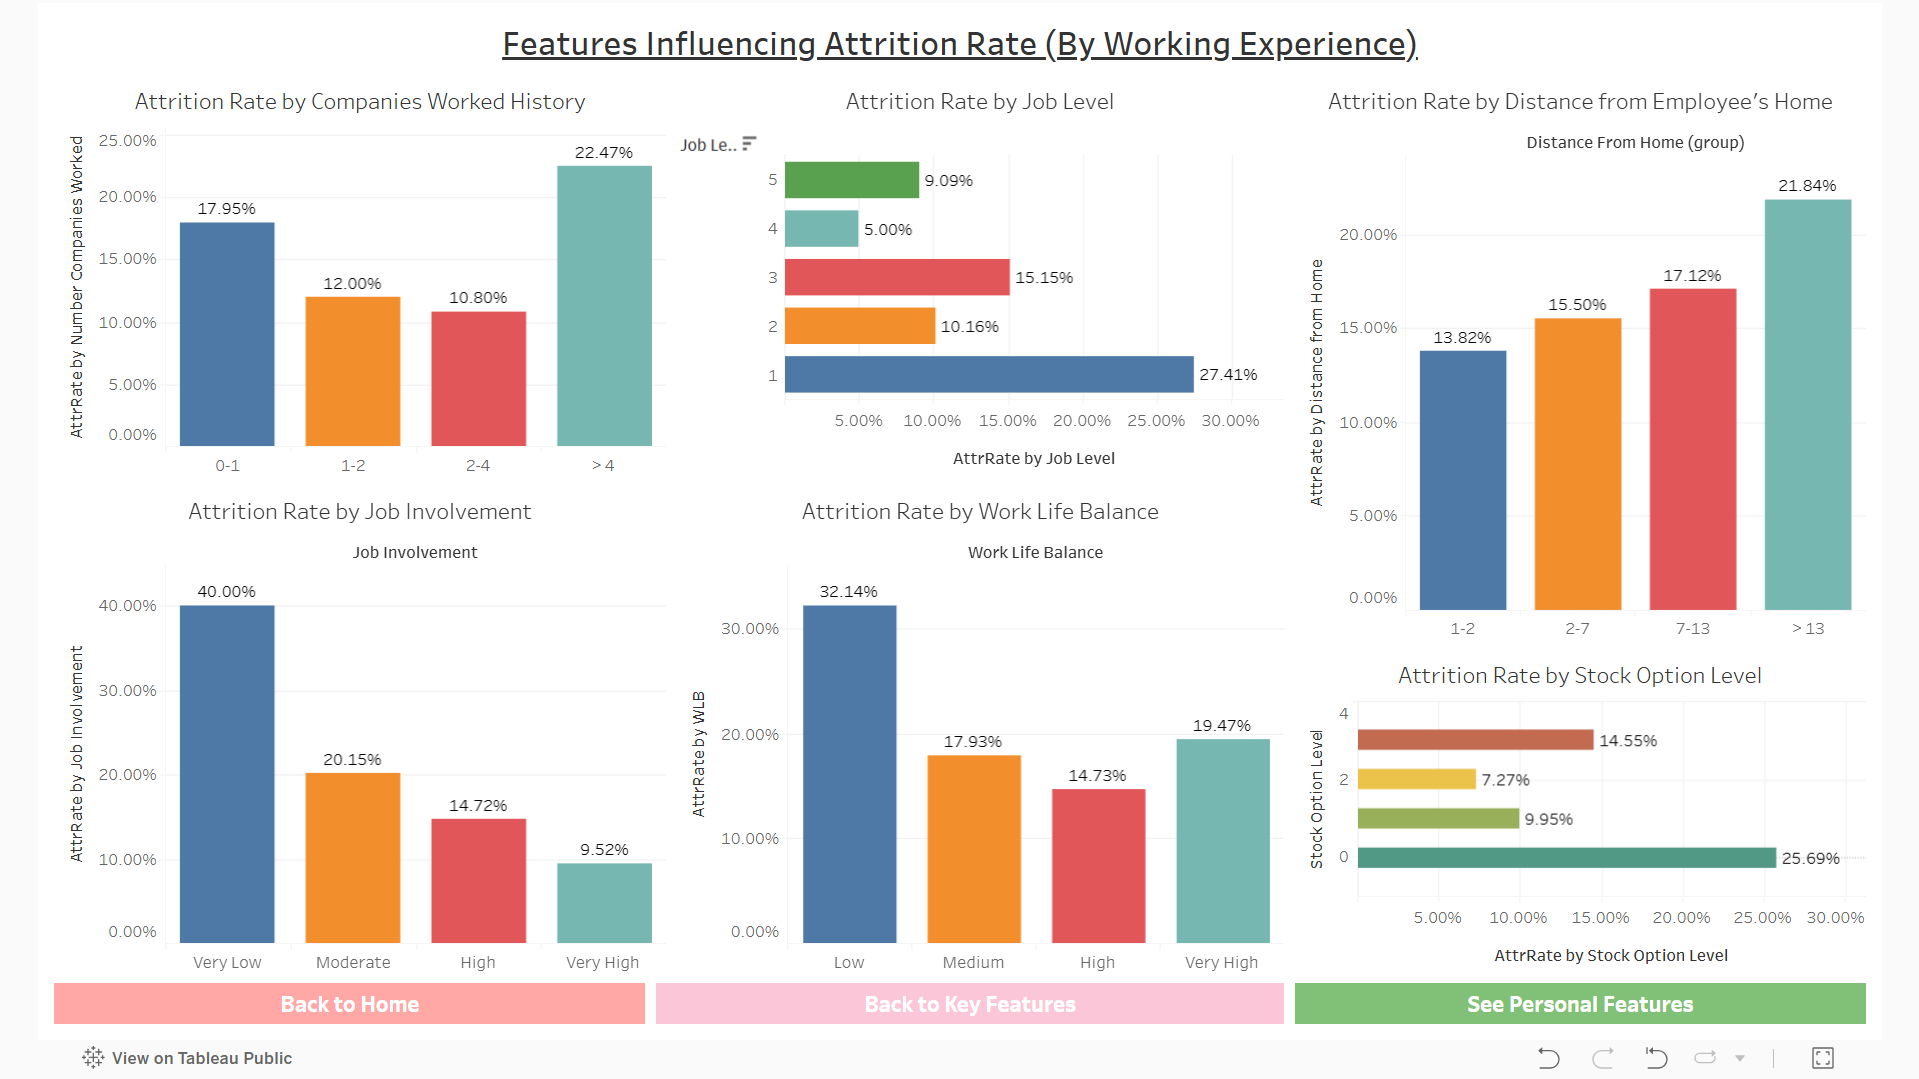

The page's visual inventory and layout, read from the dashboard file:
{"tool":"tableau","page":{"name":"see_more","canvas":[1000,800],"ordinal":2},"visuals":[{"type":"title","box":[8,8,984,42]},{"type":"worksheet","title":"rate by num companies worked","mark":"Automatic","rows":["Calculation_1055597553000540"],"box":[8,50,336,318]},{"type":"worksheet","title":"rate by job level","mark":"Automatic","rows":["JobLevel"],"cols":["Calculation_1055597557756000"],"box":[344,50,334,318]},{"type":"worksheet","title":"Sheet 20","mark":"Automatic","rows":["Calculation_1055597571383431"],"box":[678,50,314,443.7]},{"type":"worksheet","title":"job involvement","mark":"Automatic","rows":["Calculation_1055597569876097"],"cols":["JobInvolvement"],"box":[8,368,336,384]},{"type":"worksheet","title":"rate by WLB","mark":"Automatic","rows":["Calculation_1055597559013473"],"cols":["WorkLifeBalance"],"box":[344,368,334,384]},{"type":"worksheet","title":"rate by stock option","mark":"Bar","rows":["StockOptionLevel"],"cols":["Calculation_1055597545324634"],"box":[678,493.7,314,258.3]},{"type":"dashboard-object","box":[8,752,324.9,40]},{"type":"dashboard-object","box":[332.9,752,345.1,40]},{"type":"dashboard-object","box":[678,752,314,40]}]}

Visuals, with their boxes on the page's 1000x800 design canvas (x1, y1, x2, y2). These are canvas units, not pixel positions in the 1919x1079 screenshot, which may show the page scaled, cropped or inside an application window:
title: bbox(8, 8, 992, 50)
"rate by num companies worked" worksheet: bbox(8, 50, 344, 368)
"rate by job level" worksheet: bbox(344, 50, 678, 368)
"Sheet 20" worksheet: bbox(678, 50, 992, 494)
"job involvement" worksheet: bbox(8, 368, 344, 752)
"rate by WLB" worksheet: bbox(344, 368, 678, 752)
"rate by stock option" worksheet (Bar marks): bbox(678, 494, 992, 752)
dashboard-object: bbox(8, 752, 333, 792)
dashboard-object: bbox(333, 752, 678, 792)
dashboard-object: bbox(678, 752, 992, 792)
